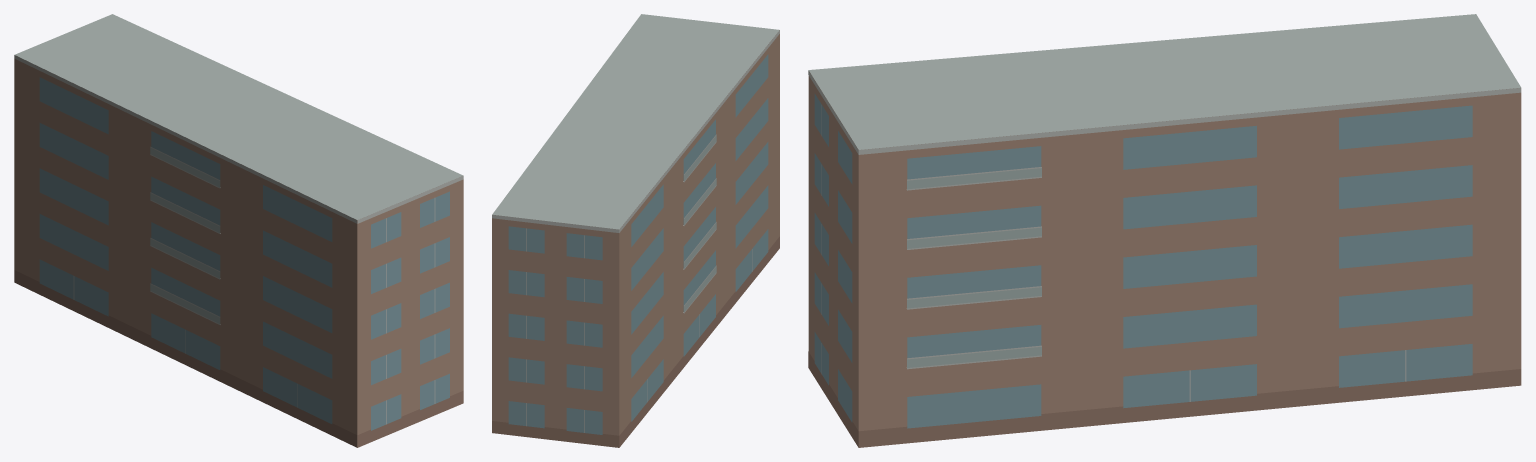
Rendered from survey-upis-33027492.glb.
The picture shows the model from 3 angles, left to right: view 1: azimuth 30°, elevation 25°; view 2: azimuth 150°, elevation 25°; view 3: azimuth 270°, elevation 25°; orthographic projection. The views are drawn at different scales.
Visible parts, largest first — view 1: survey-upis-33027492.tmp; view 2: survey-upis-33027492.tmp; view 3: survey-upis-33027492.tmp.
Boxes of the visible parts, bbox=[...] form: survey-upis-33027492.tmp: bbox=[14, 14, 463, 447]; survey-upis-33027492.tmp: bbox=[492, 14, 779, 447]; survey-upis-33027492.tmp: bbox=[808, 14, 1521, 447].
Bounding box in the file's own units: 14.41 × 14.7 × 31.89.
